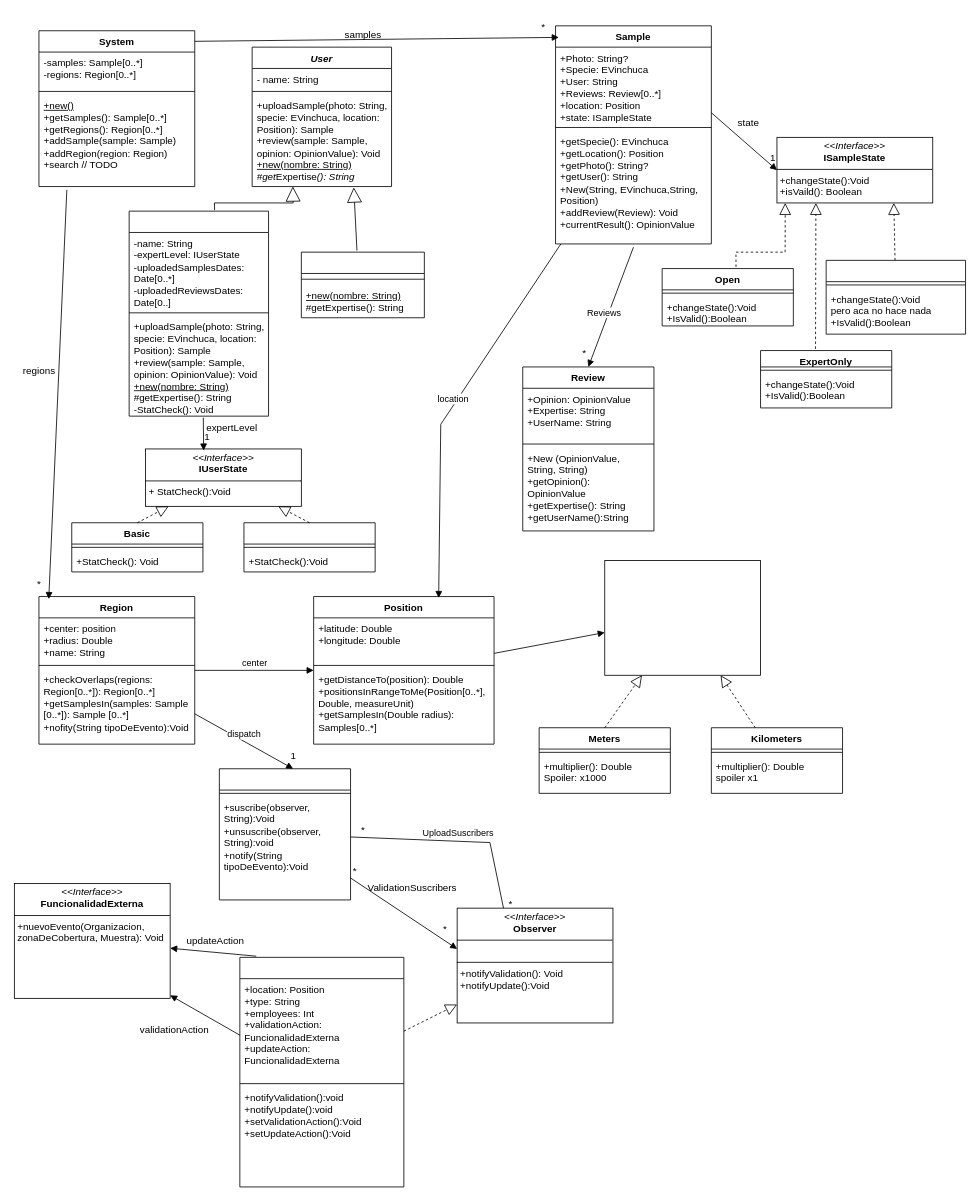
This 980x1203 diagram has some shape labels left out. The box of each missing label's shape, as (x1, y1, x2, y2) in pixels:
<<Interface>> measureUnit + multiplier(): Double: (604, 560, 761, 675)
ChangeableUser: (128, 210, 269, 416)
Closed: (825, 260, 966, 334)
EventManager: (219, 768, 351, 900)
Expert: (243, 522, 375, 572)
ONG: (239, 957, 404, 1187)
PermanentExpert: (301, 251, 424, 318)
